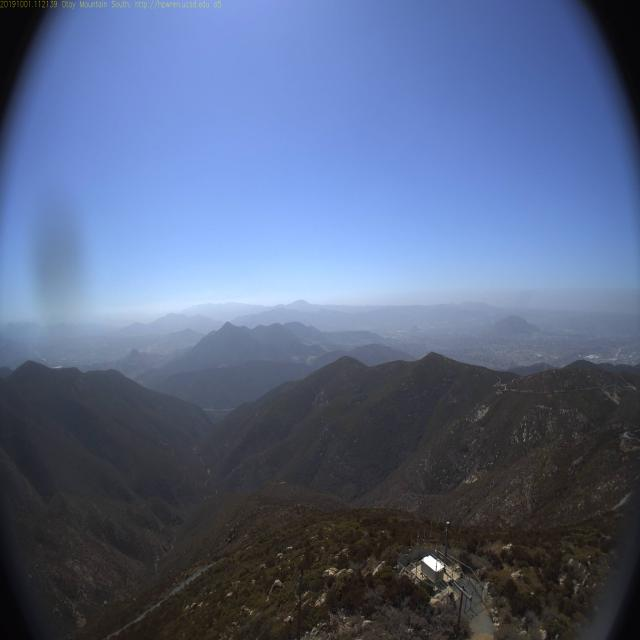smoke: (26, 332, 51, 366)
